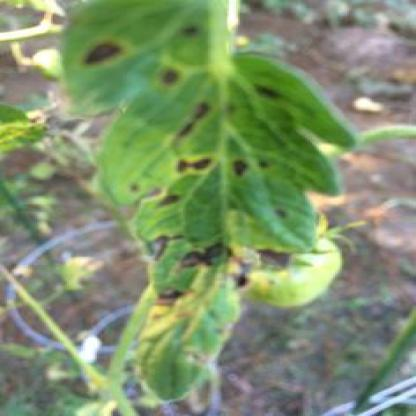Tomato Septoria leaf spot: (53, 1, 363, 400)
